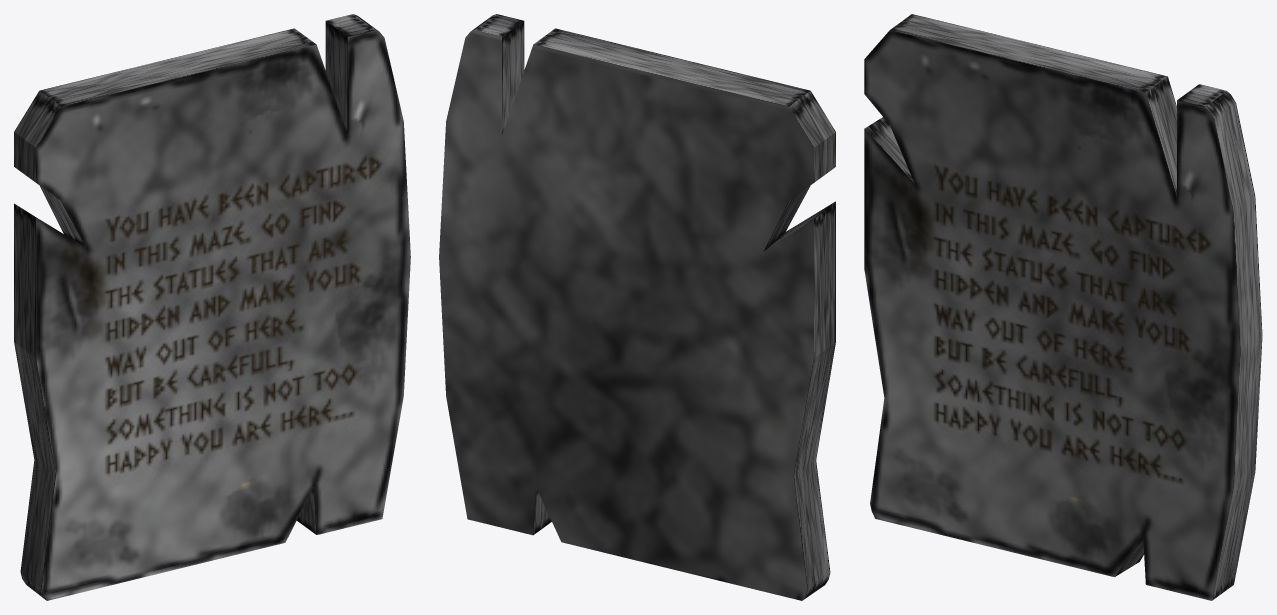
The model's file is Stone tablet discription.fbx.
The picture shows the model from 3 angles, left to right: view 1: azimuth 30°, elevation 25°; view 2: azimuth 150°, elevation 25°; view 3: azimuth 330°, elevation 25°; orthographic projection.
Parts seen in each view (by area): view 1: pCube1; view 2: pCube1; view 3: pCube1.
Boxes of the visible parts, x1,y1,x2,y2 form: pCube1: [14, 14, 410, 600]; pCube1: [439, 14, 835, 600]; pCube1: [864, 14, 1262, 600].
Size of the model in its own units: 0.5426 by 0.6789 by 0.0553.
Materials: 1 (1 with a texture image).
